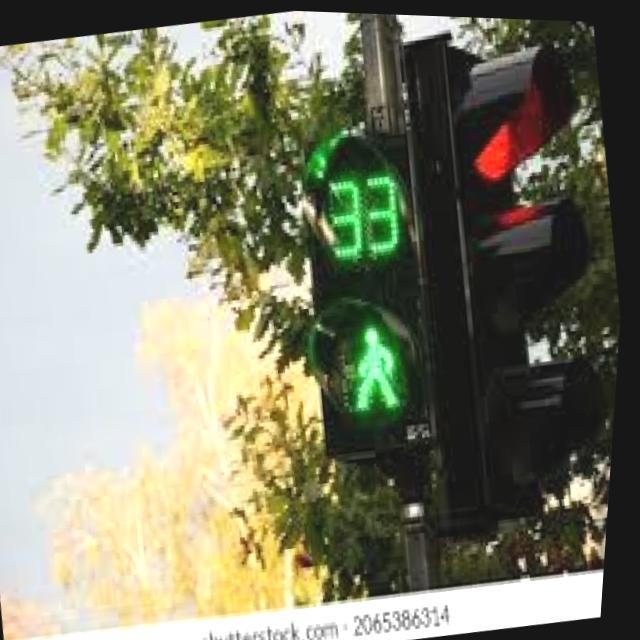green_light: (299, 153, 444, 433)
